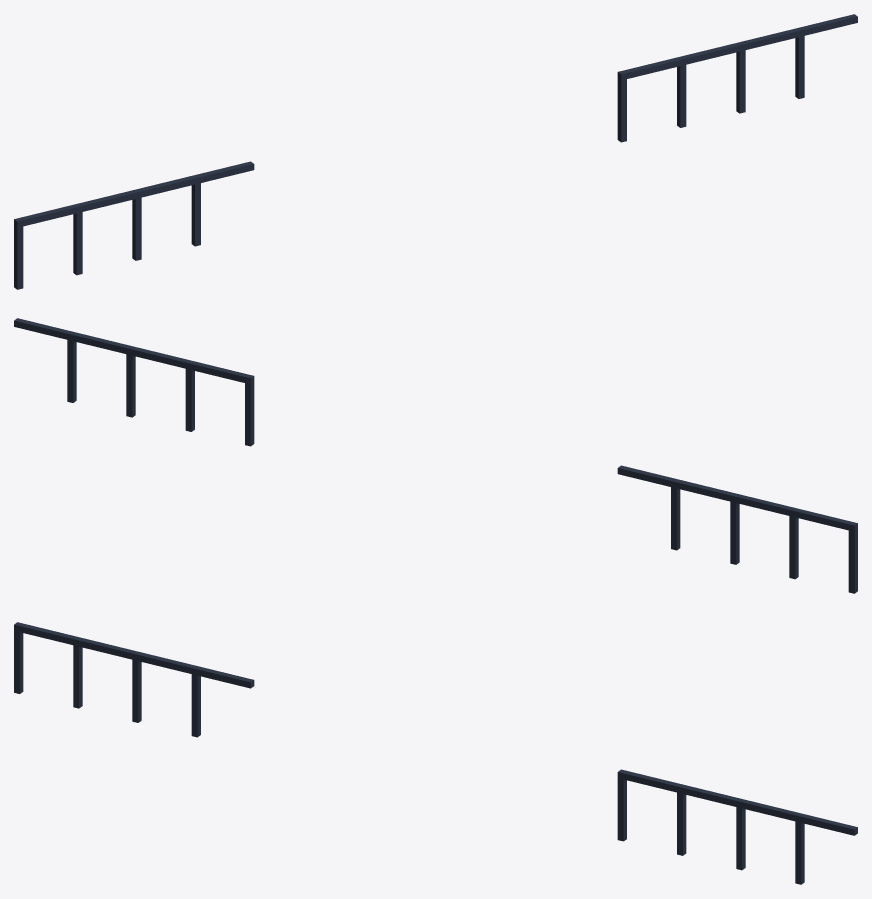
The model's file is antenna_e4_l3.glb.
3 views of the same model, one above another, from view 1: azimuth 30°, elevation 25°; view 2: azimuth 150°, elevation 25°; view 3: azimuth 330°, elevation 25° (orthographic).
Parts seen in each view (by area): view 1: Base; view 2: Base; view 3: Base.
Part boxes in pixels (x1,y1,x2,y2): Base: (14,14,857,289); Base: (14,318,857,593); Base: (14,622,857,884).
Bounding box in the file's own units: 14.2 × 1.1 × 0.1.
